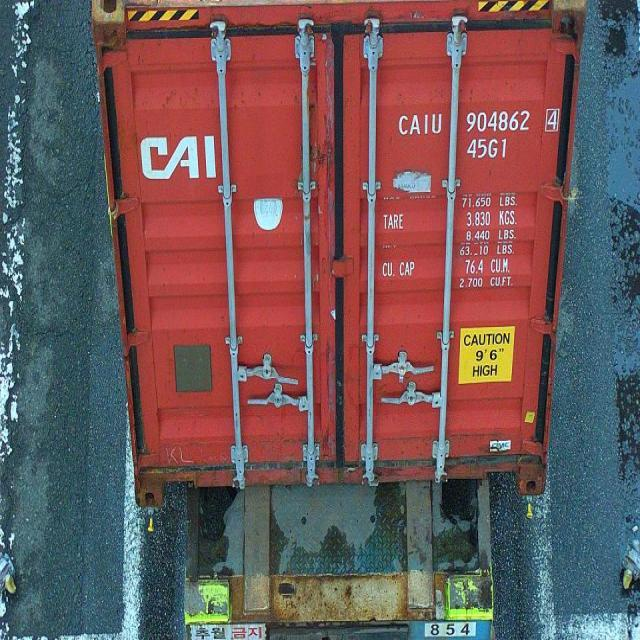ISO: (464, 138, 510, 160)
container_number: (402, 110, 540, 135)
